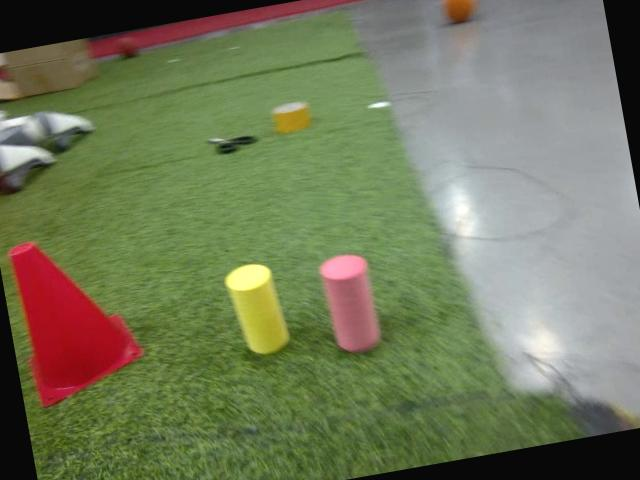orange_ball: (437, 0, 479, 28)
red_barrel: (6, 220, 156, 409)
red_cylinder: (316, 248, 386, 358)
yellow_cylinder: (220, 258, 293, 360)
